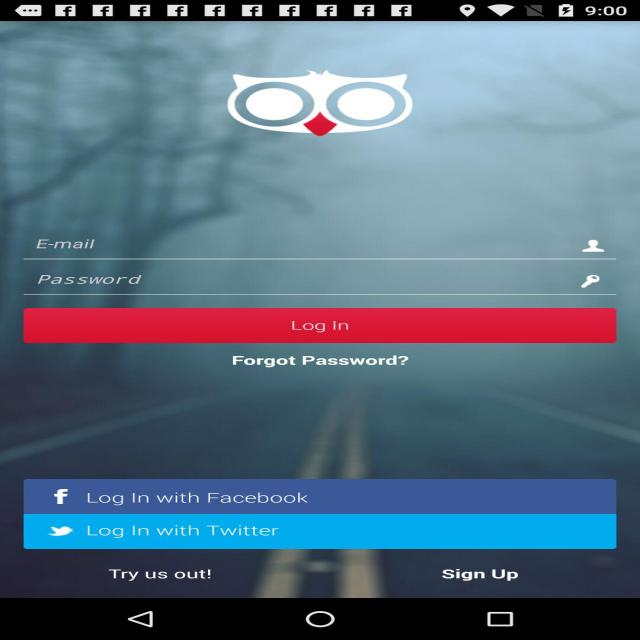button: (22, 481, 617, 551), (21, 308, 621, 344), (79, 559, 245, 590), (412, 560, 546, 594)
icon: (578, 225, 621, 298), (35, 488, 89, 542)
image: (185, 55, 470, 159)
text: (84, 488, 331, 543), (210, 348, 488, 383), (20, 229, 168, 291), (434, 566, 534, 591), (264, 314, 373, 336), (100, 567, 219, 580)
